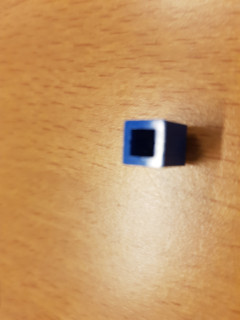1x1 blue: (117, 115, 198, 172)
